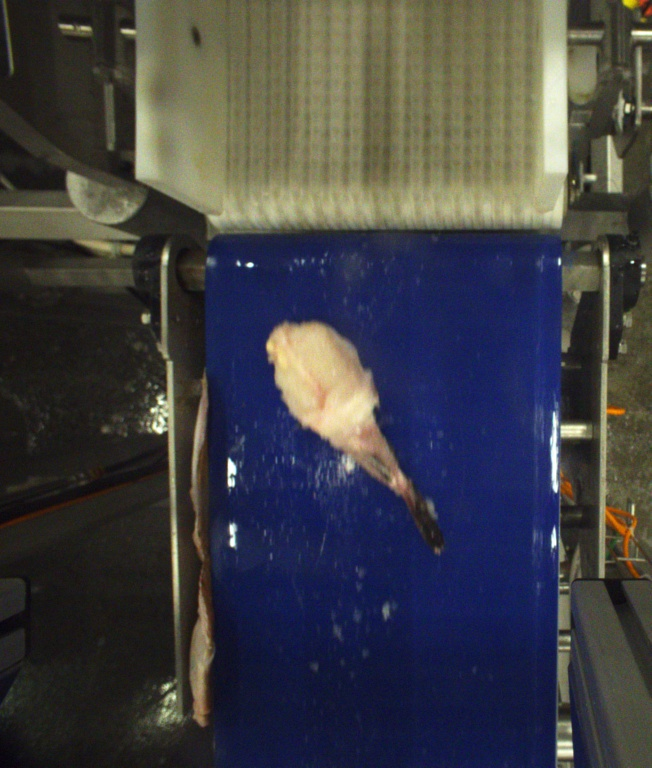ANF: (267, 321, 448, 554)
